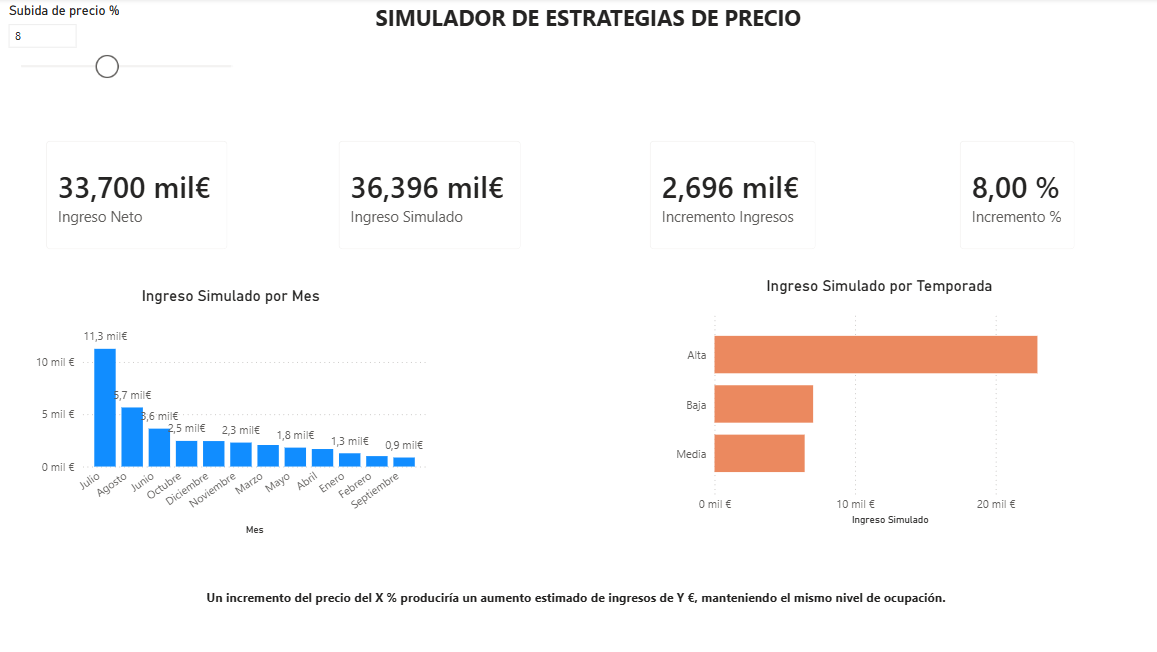

Layout of this report page (visuals, bound fields, positions):
{"tool":"powerbi","page":{"name":"Simulador de ingresos","canvas":[1280,720],"ordinal":2},"visuals":[{"type":"slicer","fields":{"Values":["Subida de precio %.Subida de precio %"]},"box":[0,0,279.9,153.7],"z":0},{"type":"textbox","box":[358.1,0,581.8,89.2],"z":1000},{"type":"cardVisual","fields":{"Data":["Dataset.Ingreso Neto"]},"box":[37,140,233.3,153.7],"z":2000},{"type":"cardVisual","fields":{"Data":["Dataset.Ingreso Simulado"]},"box":[358.1,140,234.6,153.7],"z":3000},{"type":"cardVisual","fields":{"Data":["Dataset.Incremento Ingresos"]},"box":[699.8,140,216.8,153.7],"z":4000},{"type":"cardVisual","fields":{"Data":["Dataset.Incremento %"]},"box":[1040.1,140,160.5,153.7],"z":5000},{"type":"clusteredColumnChart","fields":{"Category":["Dataset.Mes"],"Y":["Dataset.Ingreso Simulado"]},"box":[37,317,439.1,277.2],"z":6000},{"type":"clusteredBarChart","fields":{"Y":["Dataset.Ingreso Simulado"],"Category":["Dataset.Temporada"]},"box":[736.9,306,463.8,277.2],"z":6001},{"type":"textbox","box":[225,643.6,827.4,61.7],"z":6002}]}

Visuals, with their boxes in screenshot pixels (x1, y1, x2, y2), scaled from the page's 1280x720 canvas onto the 1157x652 screenshot:
slicer - Subida de precio %.Subida de precio %: bbox=[0, 0, 253, 139]
textbox: bbox=[324, 0, 850, 81]
cardVisual - Dataset.Ingreso Neto: bbox=[33, 127, 244, 266]
cardVisual - Dataset.Ingreso Simulado: bbox=[324, 127, 536, 266]
cardVisual - Dataset.Incremento Ingresos: bbox=[633, 127, 829, 266]
cardVisual - Dataset.Incremento %: bbox=[940, 127, 1085, 266]
clusteredColumnChart - Dataset.Mes x Dataset.Ingreso Simulado: bbox=[33, 287, 430, 538]
clusteredBarChart - Dataset.Ingreso Simulado x Dataset.Temporada: bbox=[666, 277, 1085, 528]
textbox: bbox=[203, 583, 951, 639]
